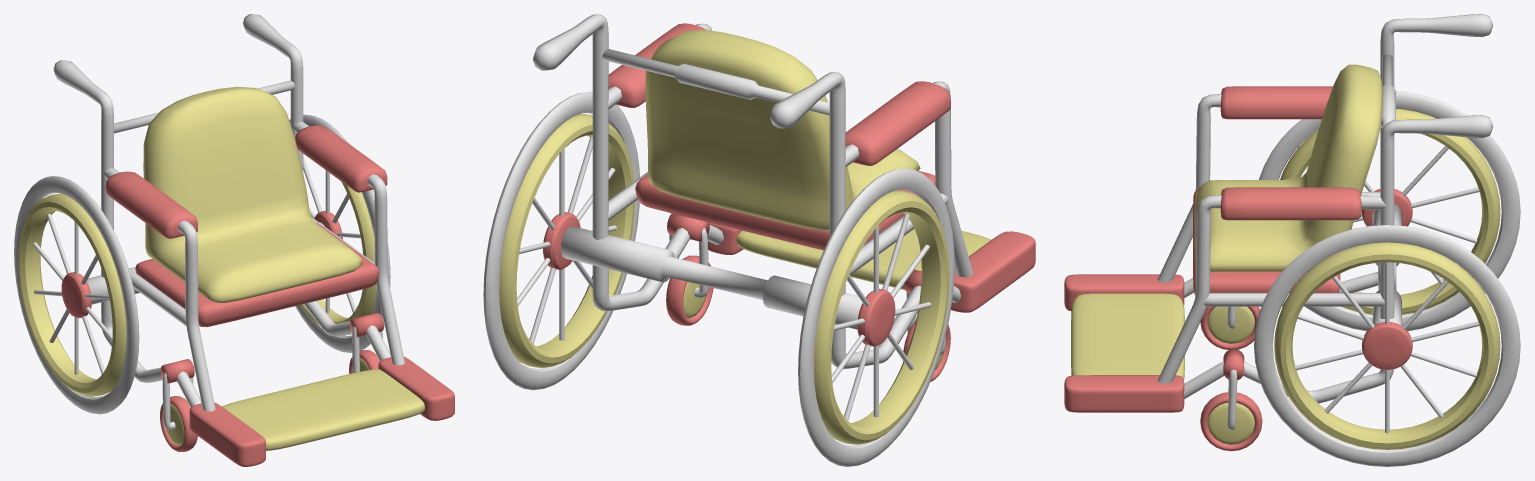
The model's file is Silla_Alpha.fbx.
3 renders of one model, left to right at view 1: azimuth 30°, elevation 25°; view 2: azimuth 150°, elevation 25°; view 3: azimuth 270°, elevation 25°, orthographic. The views are drawn at different scales.
Parts seen in each view (by area): view 1: Cube.091, Ruedas, Cube.003, Cube.001; view 2: Cube.091, Ruedas, Cube.002; view 3: Cube.091, Ruedas, Cube.002, Cube.003, Cube.004.
Boxes of the visible parts, x1,y1,x2,y2 form: Cube.091: (53, 14, 454, 466); Ruedas: (14, 114, 390, 414); Cube.003: (160, 396, 197, 451); Cube.001: (162, 372, 193, 429); Cube.091: (532, 14, 1035, 369); Ruedas: (483, 91, 954, 466); Cube.002: (666, 255, 713, 325); Cube.091: (1064, 14, 1493, 412); Ruedas: (1254, 91, 1520, 466); Cube.002: (1200, 392, 1262, 451); Cube.003: (1200, 306, 1259, 349); Cube.004: (1227, 369, 1237, 430).
Bounding box in the file's own units: 1.51 × 1.62 × 2.01.
